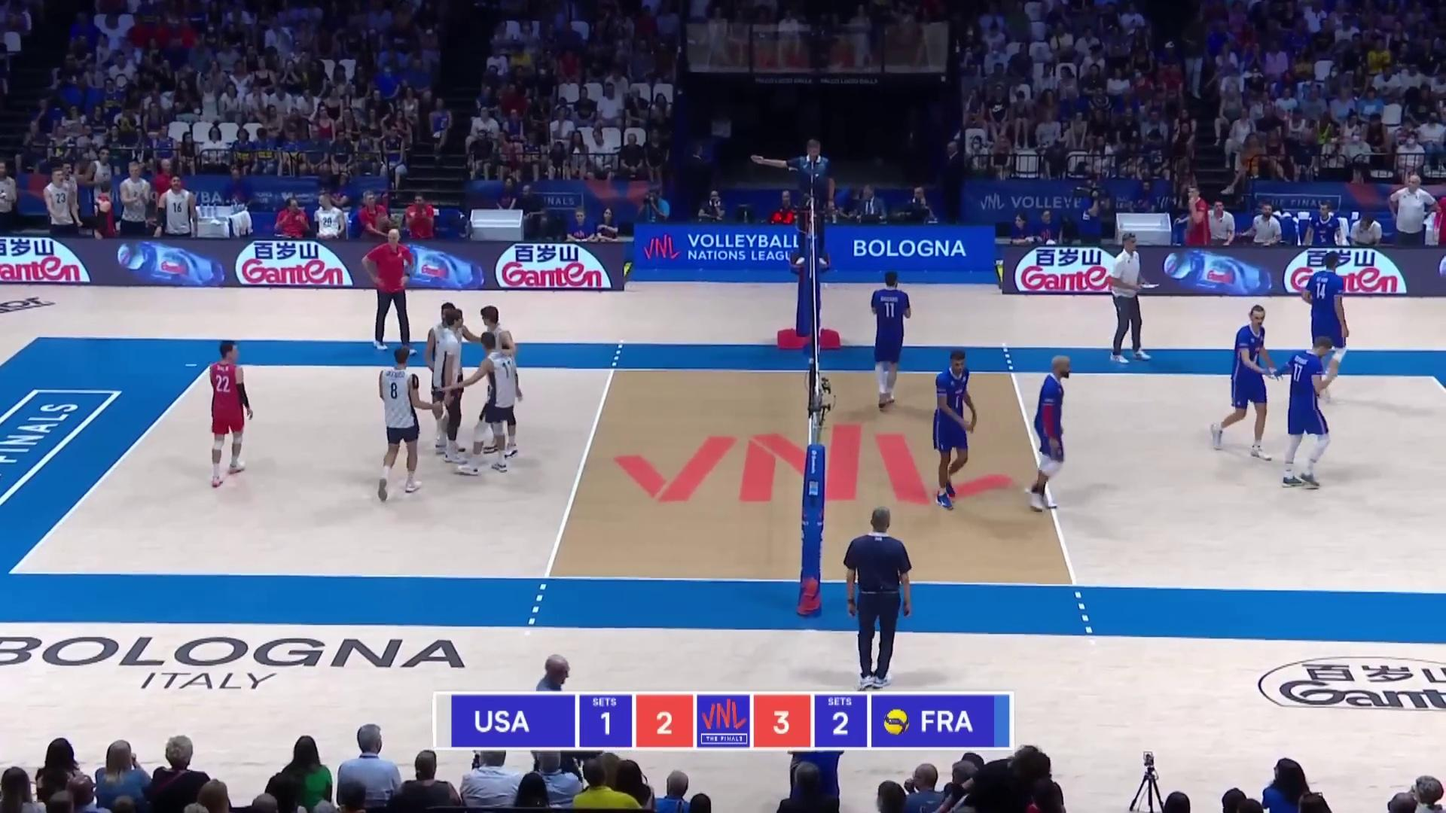player: (1219, 308, 1278, 456), (1298, 255, 1355, 394), (374, 350, 428, 496), (1279, 341, 1332, 489), (472, 306, 524, 455), (464, 335, 519, 475), (199, 347, 252, 488), (934, 355, 981, 511), (426, 301, 472, 457), (1031, 357, 1075, 510), (432, 311, 474, 463), (863, 275, 908, 413)
refree: (837, 510, 910, 681), (780, 138, 833, 264)
